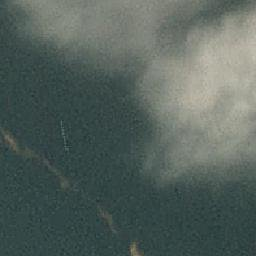cloud: (129, 1, 255, 191), (1, 1, 129, 76)
debris: (101, 208, 114, 233), (2, 128, 15, 152), (127, 240, 142, 256)
